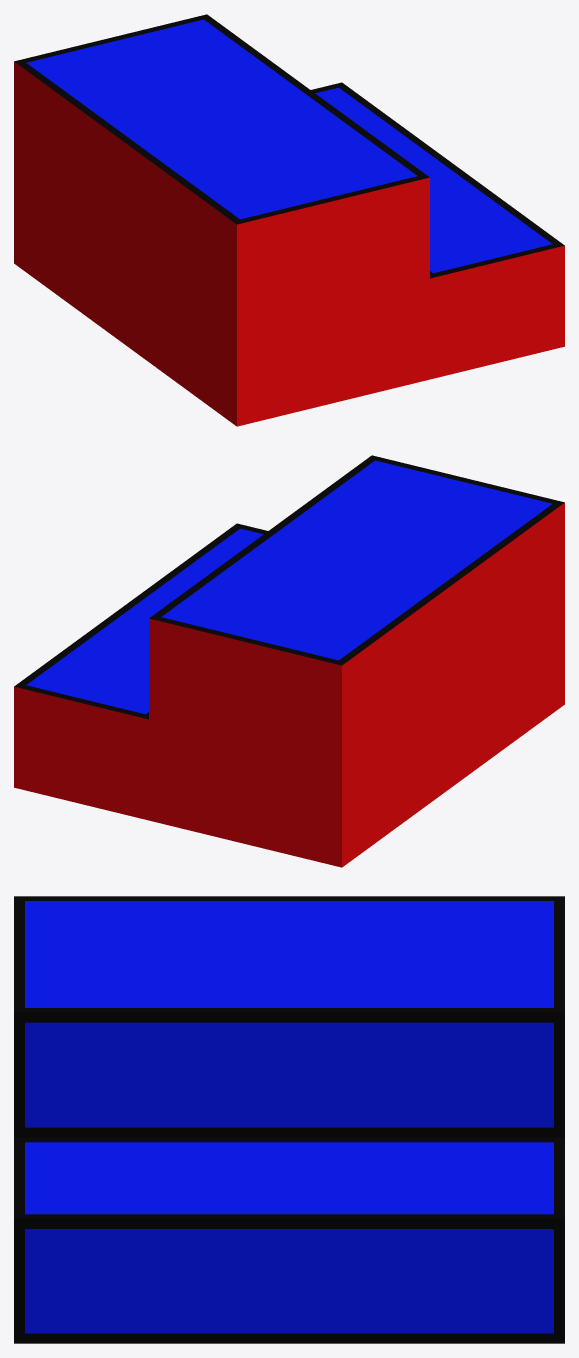
The model's file is Block.fbx.
The picture shows the model from 3 angles, top to bottom: view 1: azimuth 30°, elevation 25°; view 2: azimuth 150°, elevation 25°; view 3: azimuth 270°, elevation 25°; orthographic projection. The views are drawn at different scales.
Parts seen in each view (by area): view 1: Block; view 2: Block; view 3: Block.
Boxes of the visible parts, x1,y1,x2,y2 form: Block: (14,14,564,426); Block: (14,455,564,867); Block: (14,896,564,1343).
Size of the model in its own units: 8.49 by 5 by 10.
Materials: 1 (1 with a texture image).
